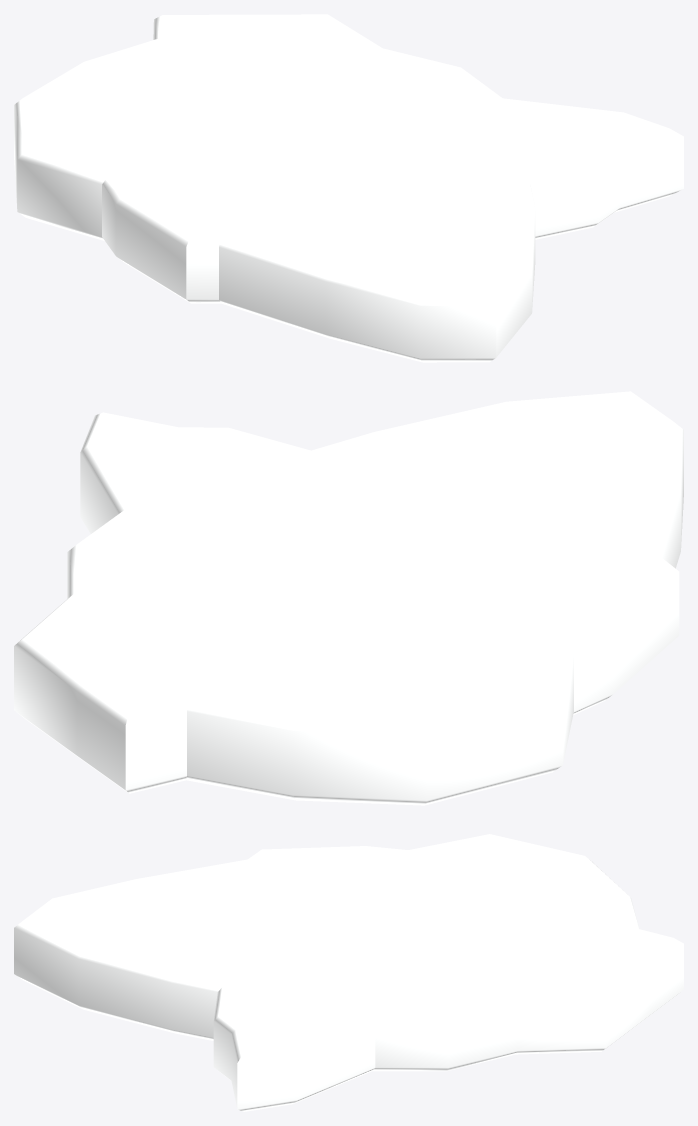
The model's file is ice_floe_medium_008.glb.
3 views of the same model, one above another, from view 1: azimuth 30°, elevation 25°; view 2: azimuth 150°, elevation 25°; view 3: azimuth 270°, elevation 25° (orthographic). The views are drawn at different scales.
Parts seen in each view (by area): view 1: ice_floe_medium_008; view 2: ice_floe_medium_008; view 3: ice_floe_medium_008.
Boxes of the visible parts, box(x1,y1,x2,y2) form: ice_floe_medium_008: box(14, 14, 683, 362); ice_floe_medium_008: box(14, 391, 683, 805); ice_floe_medium_008: box(14, 834, 683, 1111).
Bounding box in the file's own units: 7.19 × 0.8944 × 9.01.
Materials: 1 (1 with a texture image).
